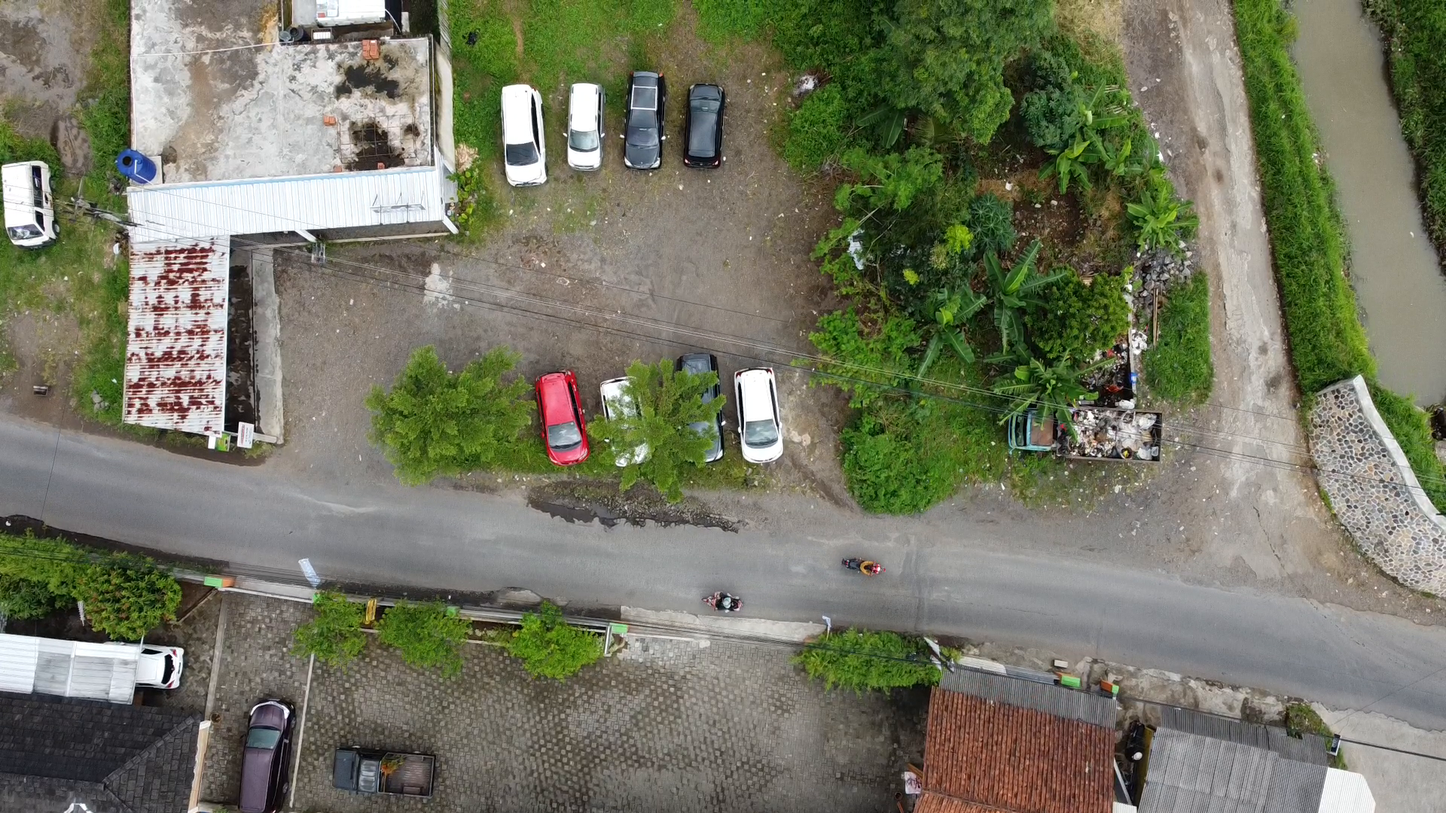mobil: (670, 336, 734, 467), (523, 368, 599, 476), (326, 736, 447, 802), (721, 363, 793, 473), (230, 693, 297, 809), (590, 372, 657, 474), (495, 87, 557, 193), (2, 152, 57, 263), (624, 62, 670, 177), (682, 74, 731, 166), (563, 79, 608, 178), (118, 633, 187, 693)
